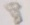microplastic: (3, 2, 25, 24)
